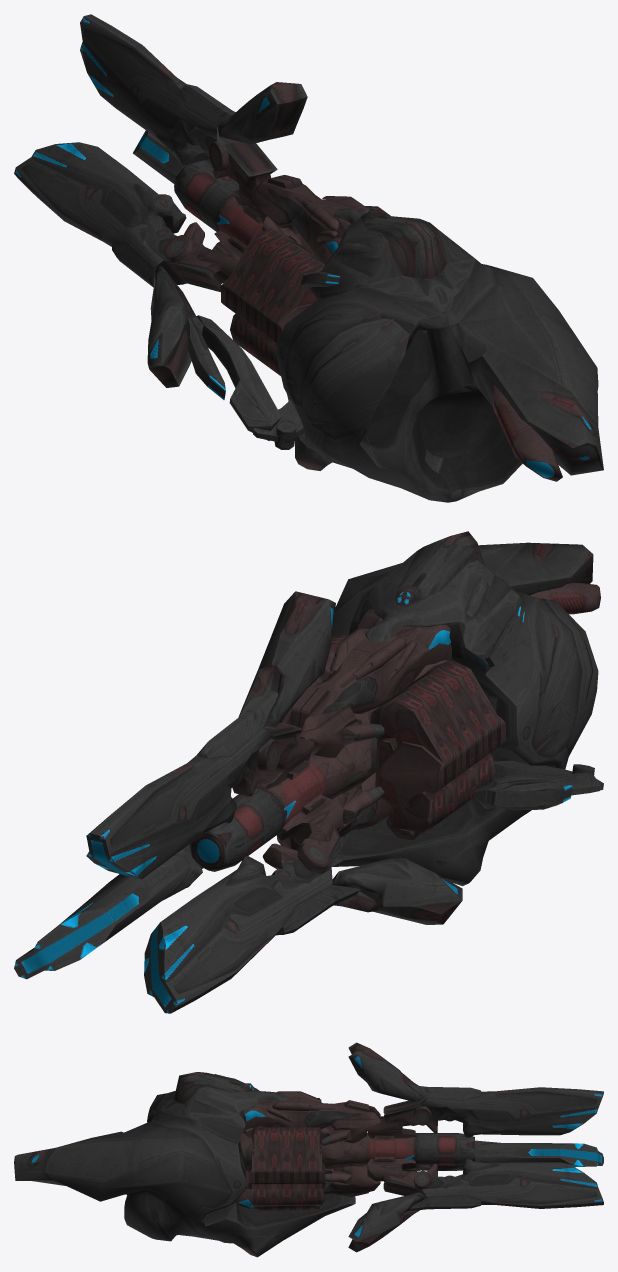
Rendered from heavy_minigun_tp_open.dae.
3 renders of one model, top to bottom at view 1: azimuth 30°, elevation 25°; view 2: azimuth 150°, elevation 25°; view 3: azimuth 270°, elevation 25°, orthographic. The views are drawn at different scales.
Parts seen in each view (by area): view 1: heavy_minigun_tp_open; view 2: heavy_minigun_tp_open; view 3: heavy_minigun_tp_open.
Boxes of the visible parts, x1,y1,x2,y2 form: heavy_minigun_tp_open: (14, 14, 603, 502); heavy_minigun_tp_open: (14, 531, 603, 1013); heavy_minigun_tp_open: (14, 1042, 603, 1257).
Bounding box in the file's own units: 0.4664 × 1.31 × 0.4739.
1 material, 1 textured.
